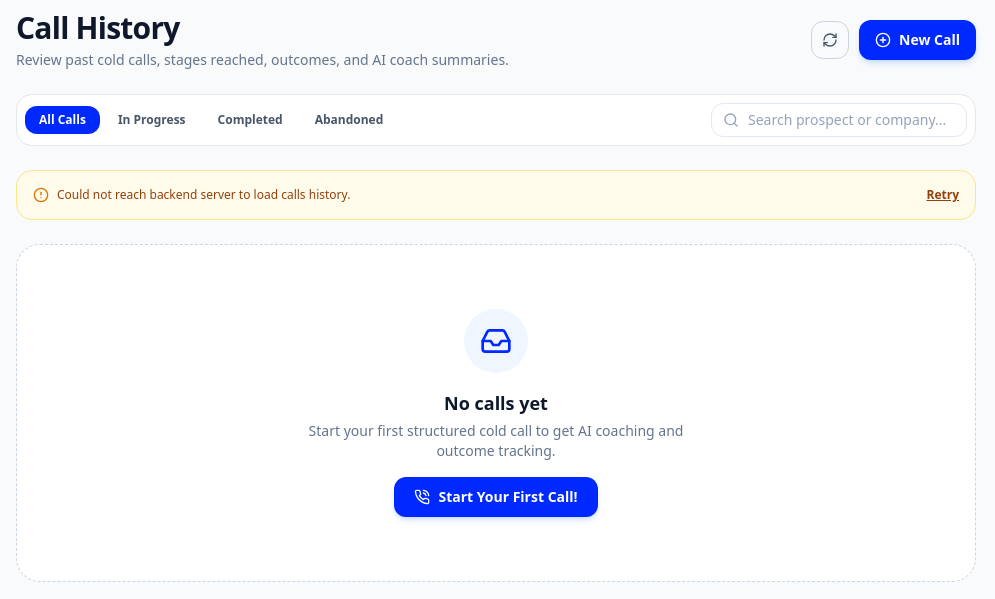
call history page › shows a retry action after a history request fails
Expected: the text "Could not reach backend server to load calls history." is shown, [57,187,350,203]
What coordinates should you click on to do the following:
click the button "Retry"
I would click on:
 (943, 195)
Its box is [926,187,959,203].
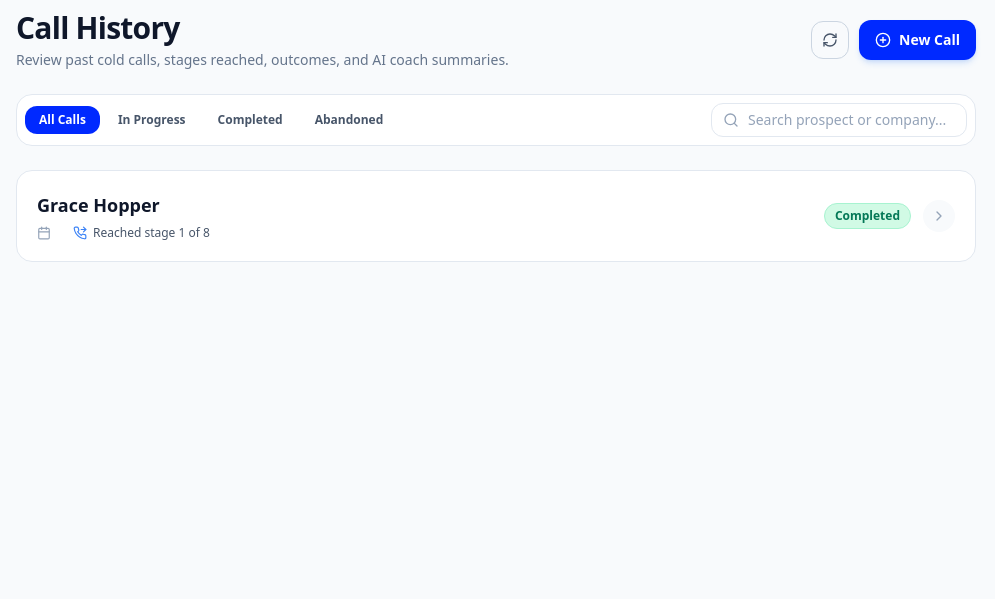
Now the heading "Grace Hopper" is shown, box [37,191,160,219]
